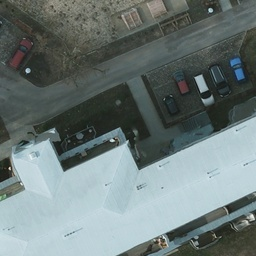car: (192, 71, 216, 109), (206, 61, 230, 99), (10, 39, 30, 67), (174, 68, 191, 96), (231, 58, 248, 83), (163, 92, 178, 115)
